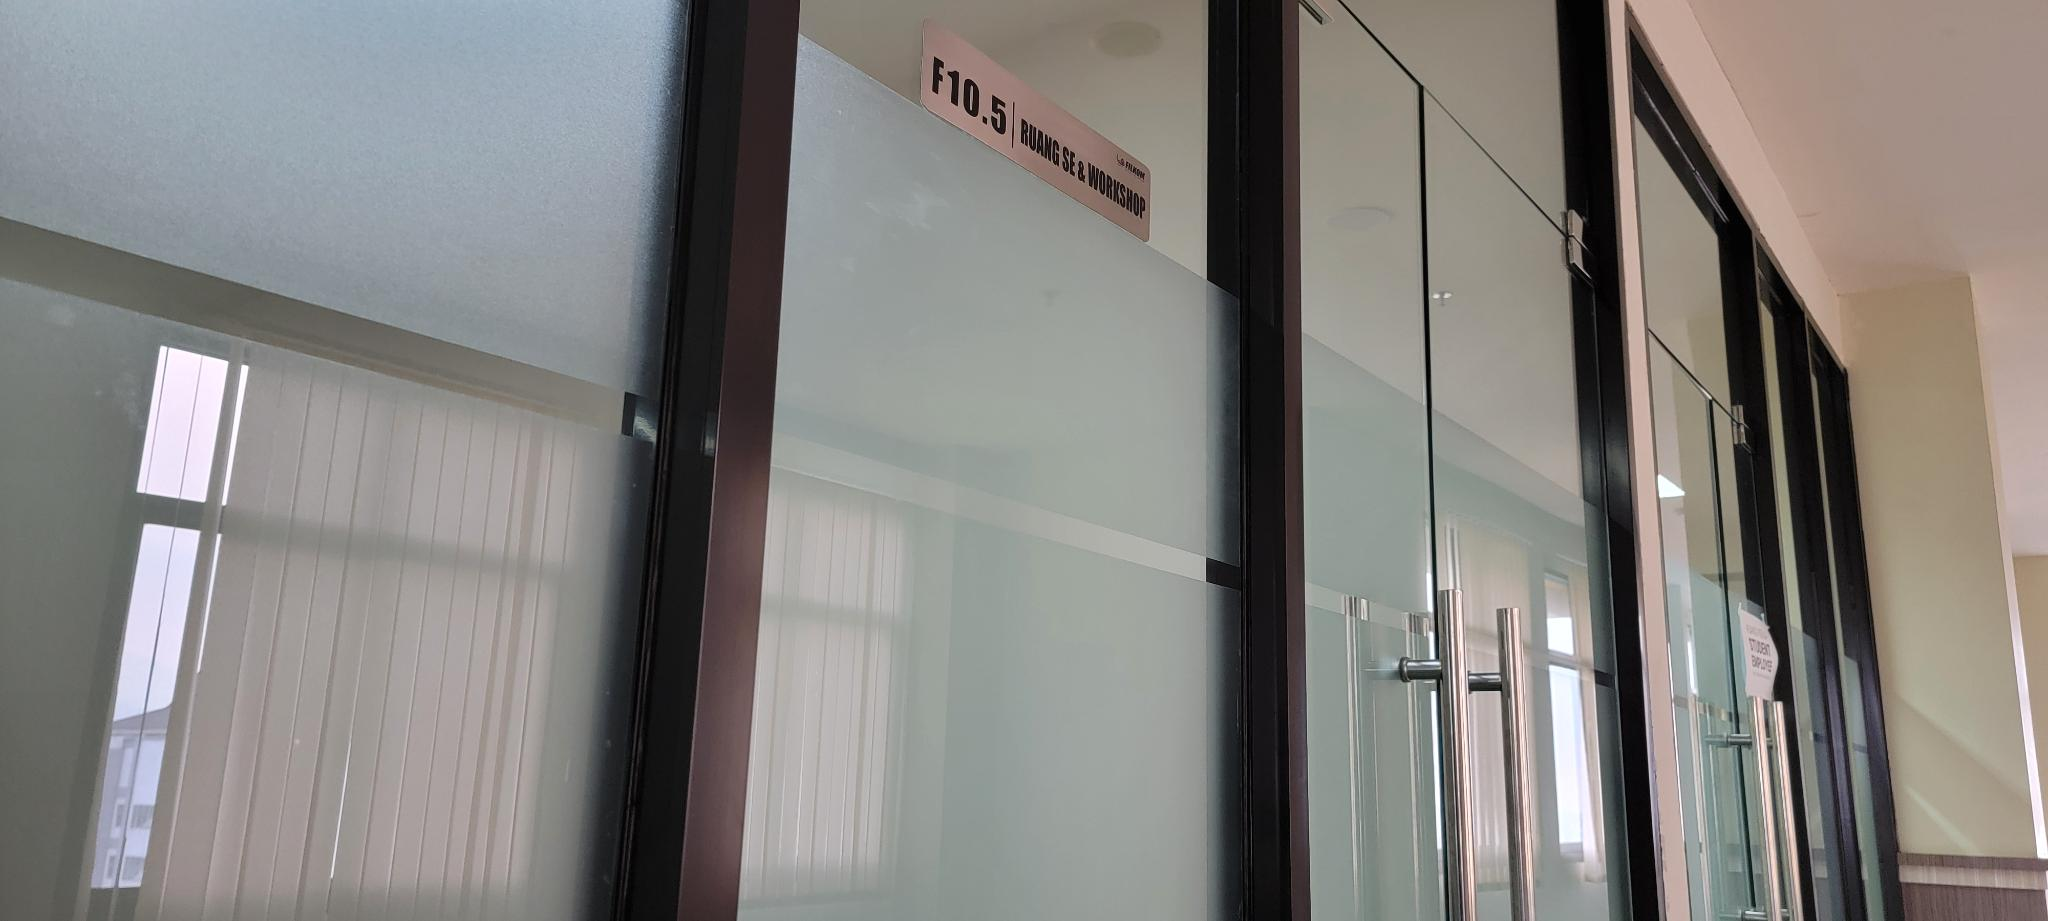plate: (920, 13, 1152, 246)
